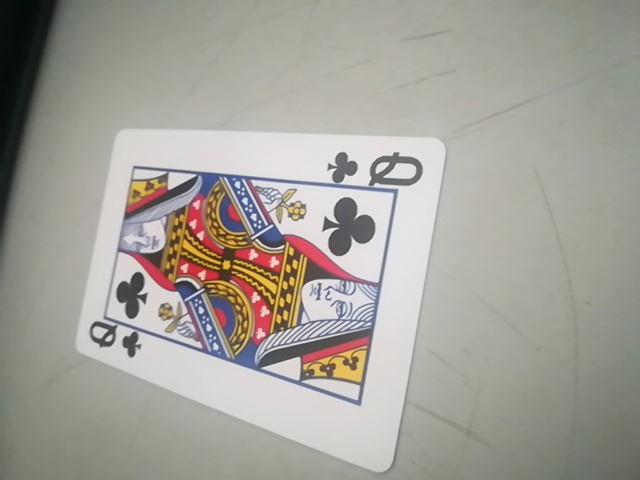mh q: (75, 132, 445, 477)
